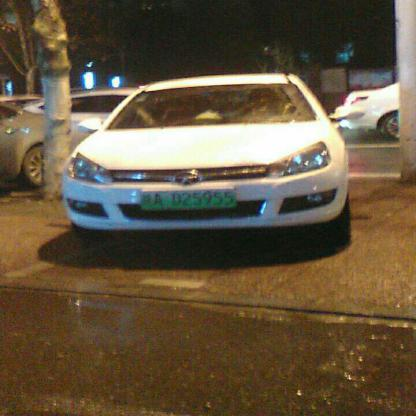lp: (140, 188, 235, 210)
